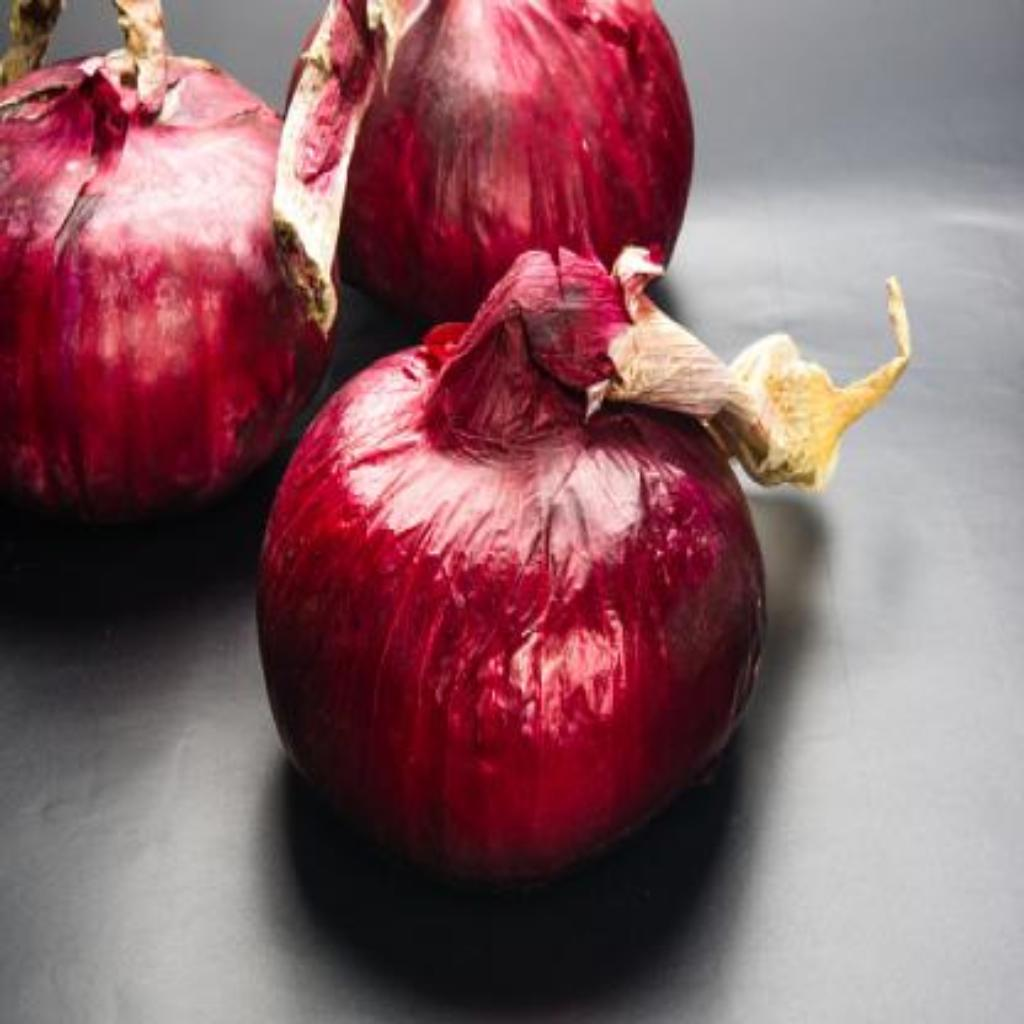Onion: (258, 246, 911, 885), (0, 0, 330, 523), (273, 0, 694, 331)
